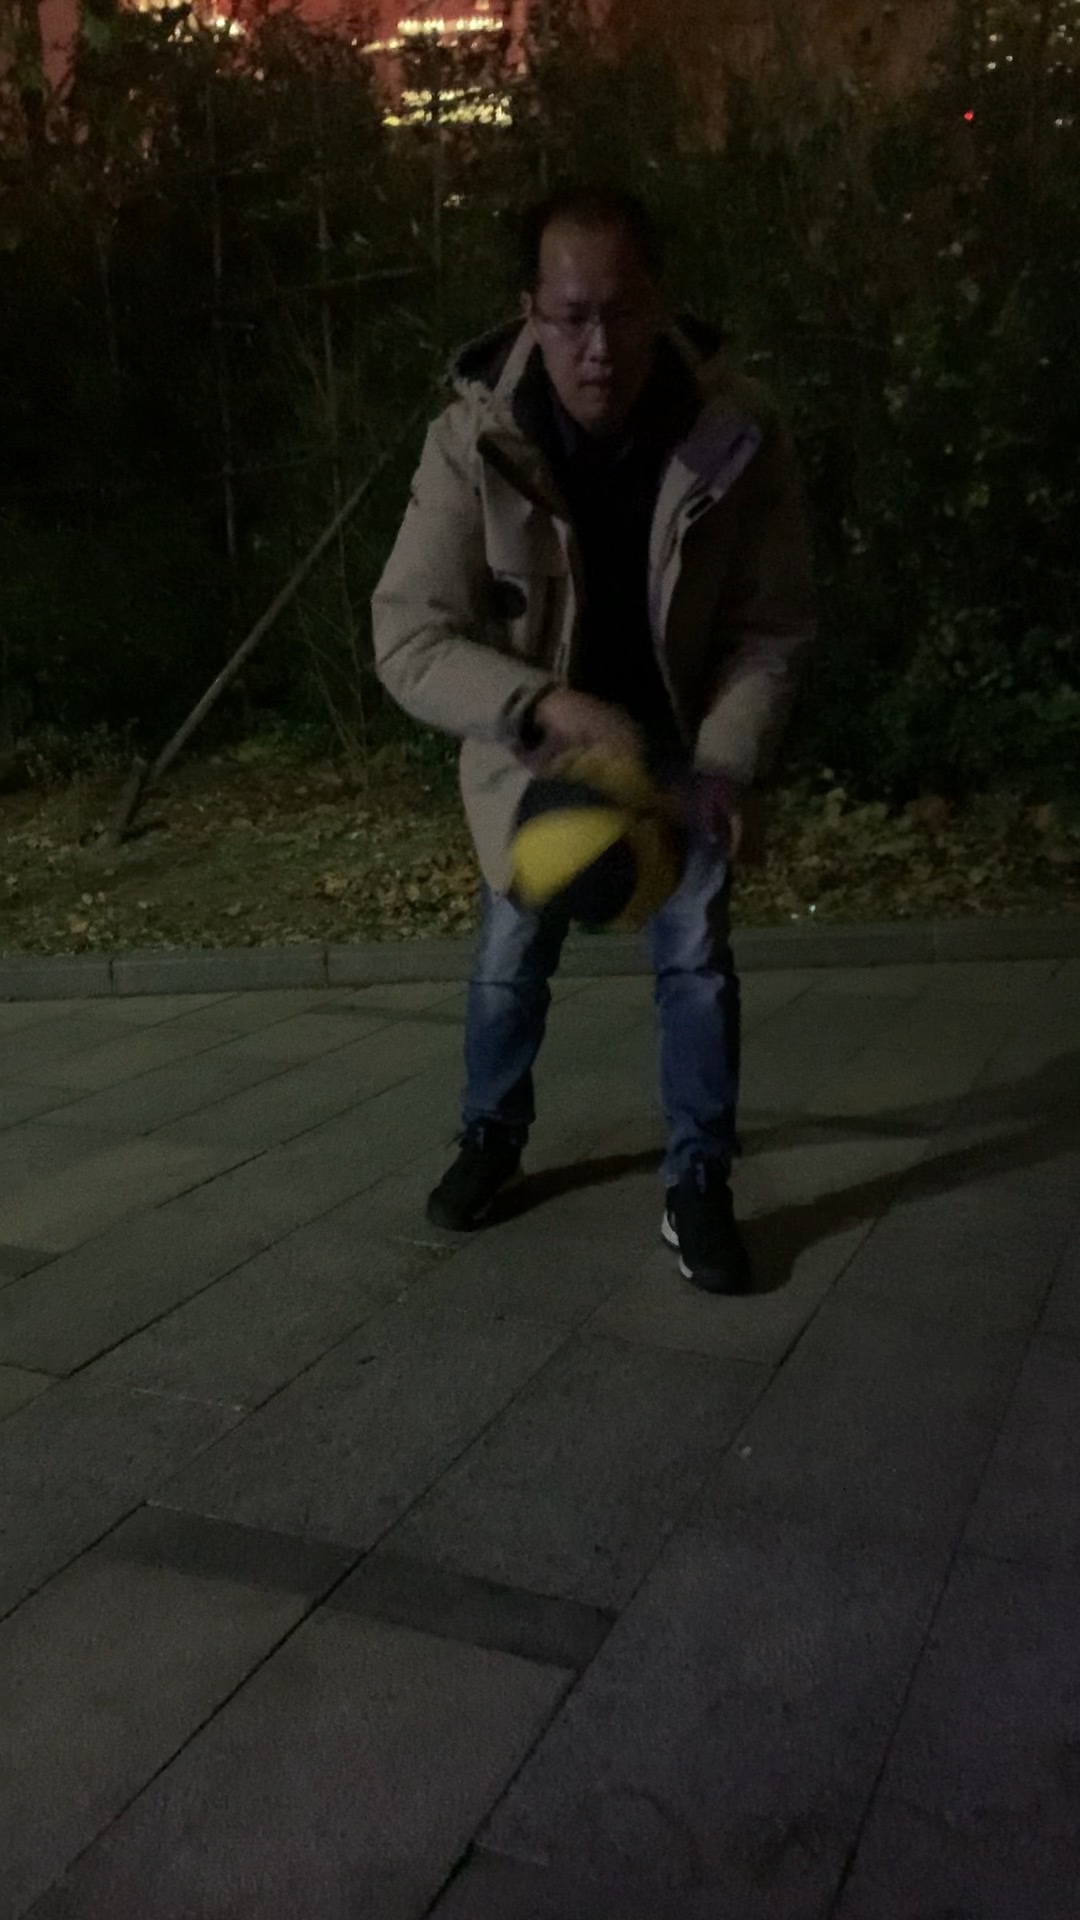ball: (505, 737, 713, 935)
